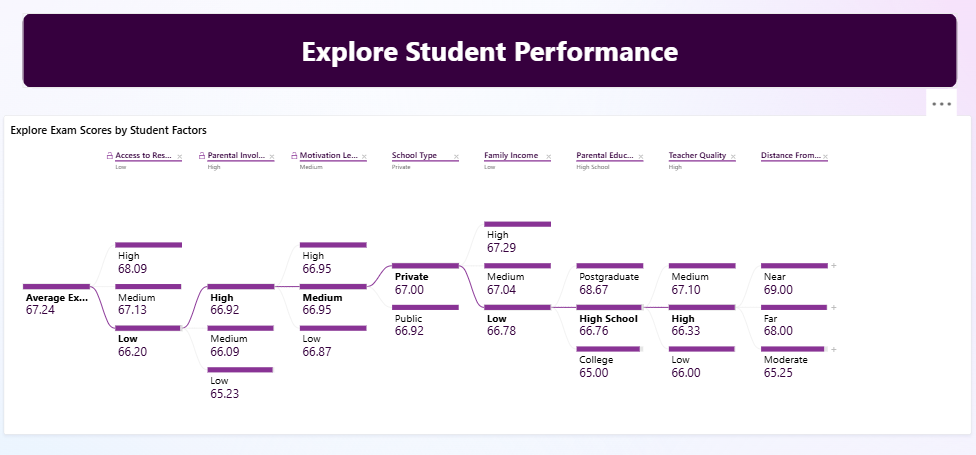

This screenshot's page, from the dashboard's own definition file:
{"tool":"powerbi","page":{"name":"Explore Performance","canvas":[1920,1080],"ordinal":2},"visuals":[{"type":"decompositionTreeVisual","title":"Explore Exam Scores by Student Factors","fields":{"Analyze":["Avg(Students.Exam_Score)"],"ExplainBy":["Students.Access_to_Resources","Students.Parental_Involvement","Students.Motivation_Level","Students.School_Type","Students.Family_Income","Students.Parental_Education_Level","Students.Teacher_Quality","Students.Distance_from_Home","Students.Gender","Students.Peer_Influence","Students.Internet_Access","Students.Learning_Disabilities"]},"box":[16.1,239.8,1888.2,622.7],"z":1},{"type":"textbox","box":[54.3,39.8,1824.1,146.6],"z":2}]}

Visuals, with their boxes on the page's 1920x1080 design canvas (x1, y1, x2, y2). These are canvas units, not pixel positions in the 976x455 screenshot, which may show the page scaled, cropped or inside an application window:
"Explore Exam Scores by Student Factors" decompositionTreeVisual: [left=16, top=240, right=1904, bottom=862]
textbox: [left=54, top=40, right=1878, bottom=186]
